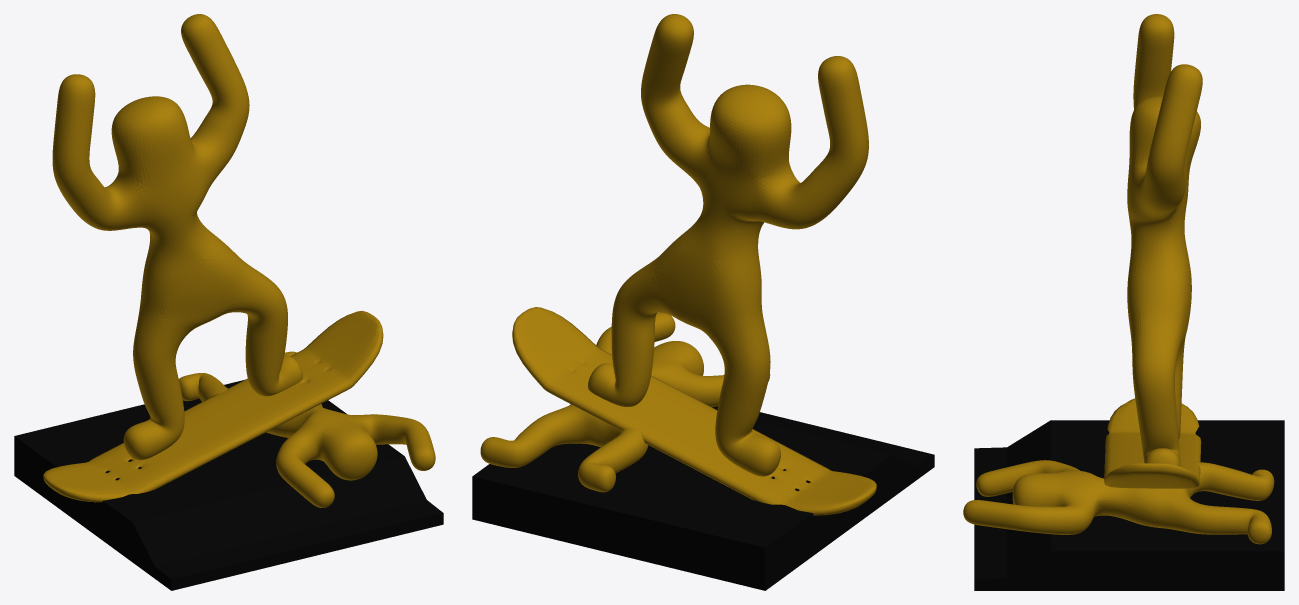
3 renders of one model, left to right at view 1: azimuth 30°, elevation 25°; view 2: azimuth 150°, elevation 25°; view 3: azimuth 270°, elevation 25°, orthographic. The views are drawn at different scales.
Parts seen in each view (by area): view 1: Plane.002, base.003, brett.001, Plane.003; view 2: Plane.002, base.003, brett.001, Plane.003; view 3: base.003, Plane.002, Plane.003, brett.001.
Boxes of the visible parts, x1,y1,x2,y2 form: Plane.002: [52, 14, 302, 460]; base.003: [14, 380, 443, 590]; brett.001: [43, 311, 383, 502]; Plane.003: [179, 351, 435, 507]; Plane.002: [587, 14, 868, 476]; base.003: [472, 404, 934, 590]; brett.001: [512, 307, 876, 515]; Plane.003: [480, 312, 770, 492]; base.003: [974, 420, 1284, 590]; Plane.002: [1127, 14, 1202, 466]; Plane.003: [963, 460, 1274, 544]; brett.001: [1104, 398, 1201, 488].
Bounding box in the file's own units: 95.19 × 130 × 82.7.
